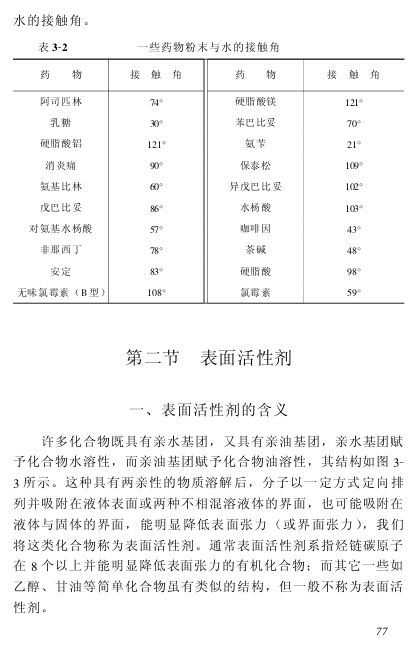table: (12, 58, 403, 304)
